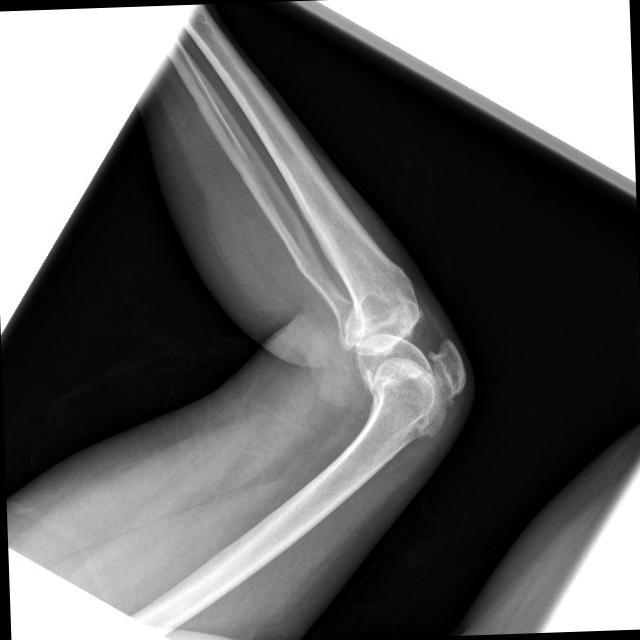Knee: (334, 271, 470, 438)
